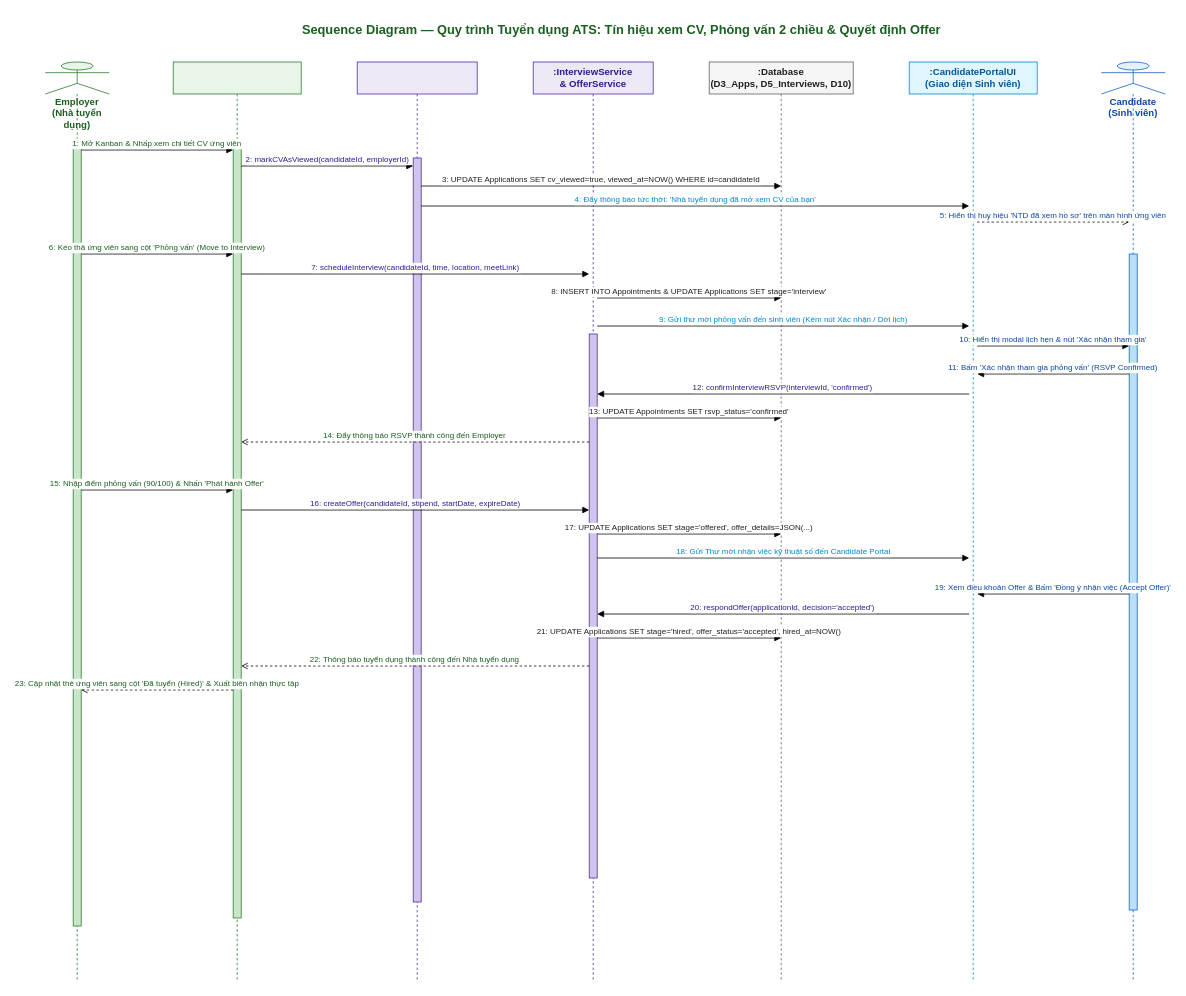
This 1186x996 diagram has some shape labels left out. Here are the shapes that lost their labels. From the top down, the box of each, then its label:
(172, 61, 301, 982): :ATSKanbanUI (Bảng Quản lý Ứng viên)
(356, 61, 477, 982): :ATSController & PipelineService
